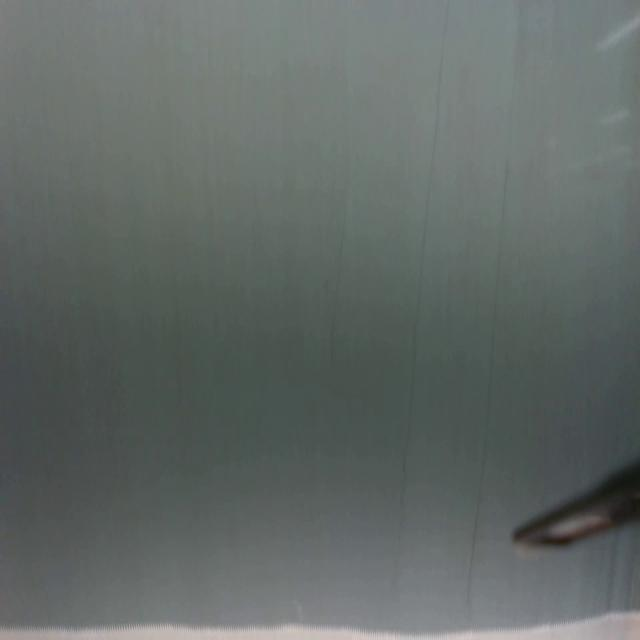crease: (385, 0, 458, 612), (463, 148, 512, 616), (328, 214, 351, 358)
